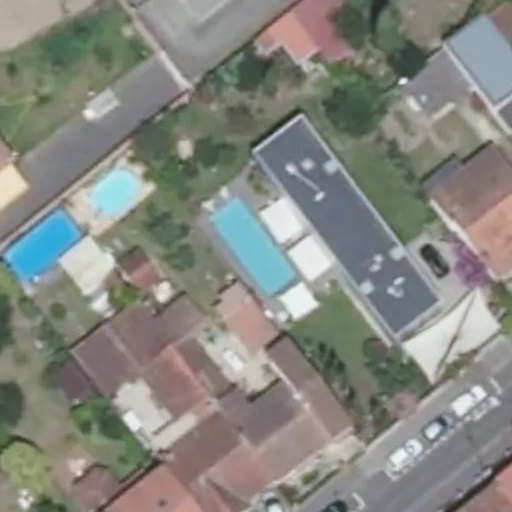pool: (210, 212, 301, 272)
